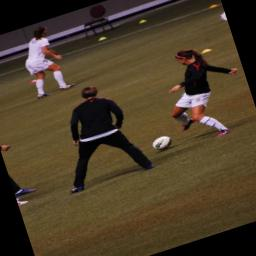football: (151, 134, 174, 152)
